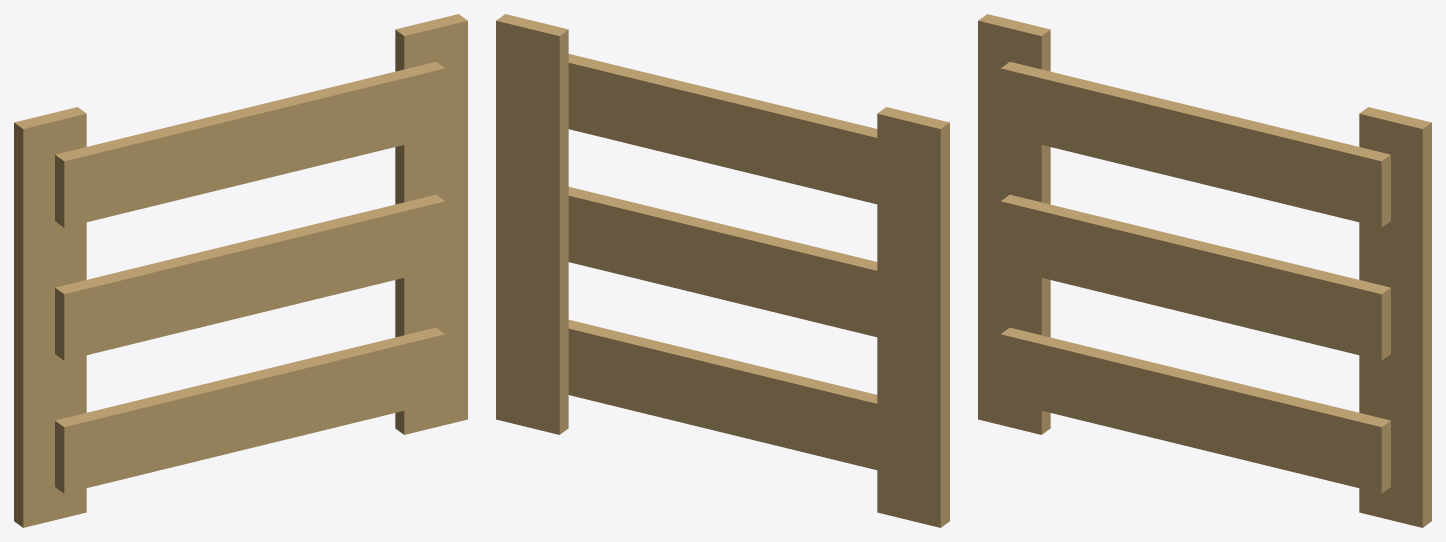
File: Fence_1_5.fbx
3 renders of one model, left to right at view 1: azimuth 30°, elevation 25°; view 2: azimuth 150°, elevation 25°; view 3: azimuth 330°, elevation 25°, orthographic.
Visible parts, largest first — view 1: Fence_1_5; view 2: Fence_1_5; view 3: Fence_1_5.
Boxes of the visible parts, bbox=[...] form: Fence_1_5: bbox=[14, 14, 467, 527]; Fence_1_5: bbox=[496, 14, 949, 527]; Fence_1_5: bbox=[978, 14, 1431, 527].
Bounding box in the file's own units: 55.12 × 47.24 × 3.94.
